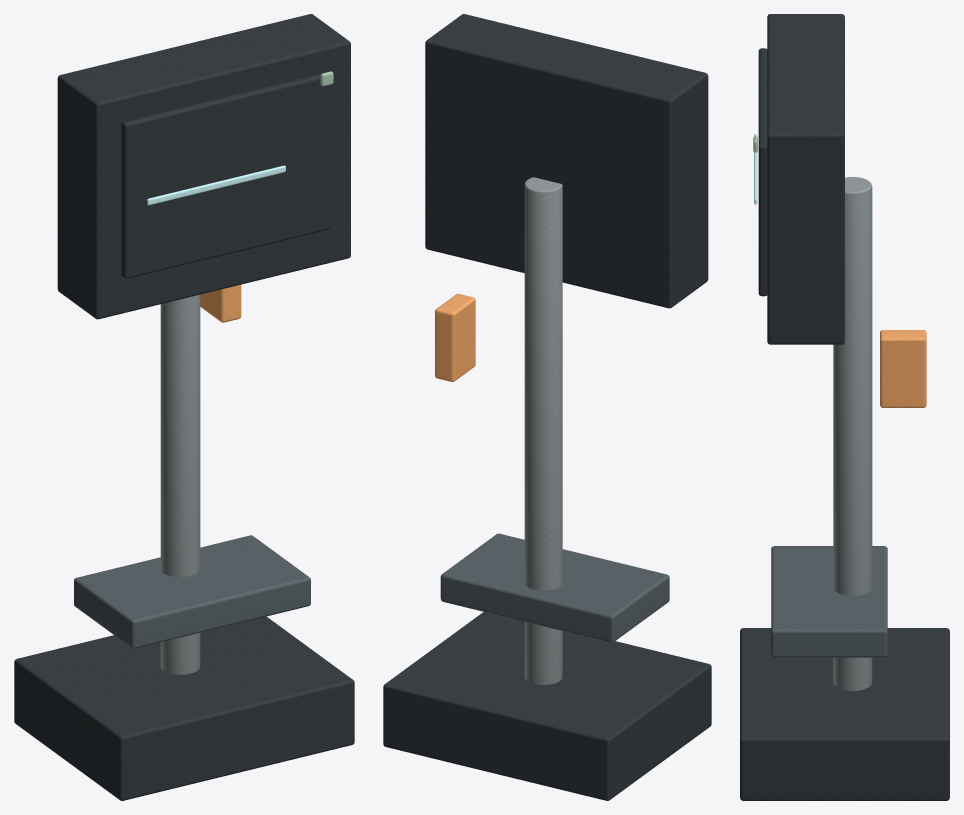
The model's file is MobileMedicalMonitor.glb.
3 renders of one model, left to right at view 1: azimuth 30°, elevation 25°; view 2: azimuth 150°, elevation 25°; view 3: azimuth 270°, elevation 25°, orthographic. The views are drawn at different scales.
Visible parts, largest first — view 1: MobileMedicalMonitor_Mesh; view 2: MobileMedicalMonitor_Mesh; view 3: MobileMedicalMonitor_Mesh.
Boxes of the visible parts, x1=… form: MobileMedicalMonitor_Mesh: x1=14, y1=14, x2=354, y2=800; MobileMedicalMonitor_Mesh: x1=383, y1=14, x2=711, y2=800; MobileMedicalMonitor_Mesh: x1=740, y1=14, x2=949, y2=800.
Size of the model in its own units: 0.74 by 1.91 by 0.54.
6 materials, 6 textured.
